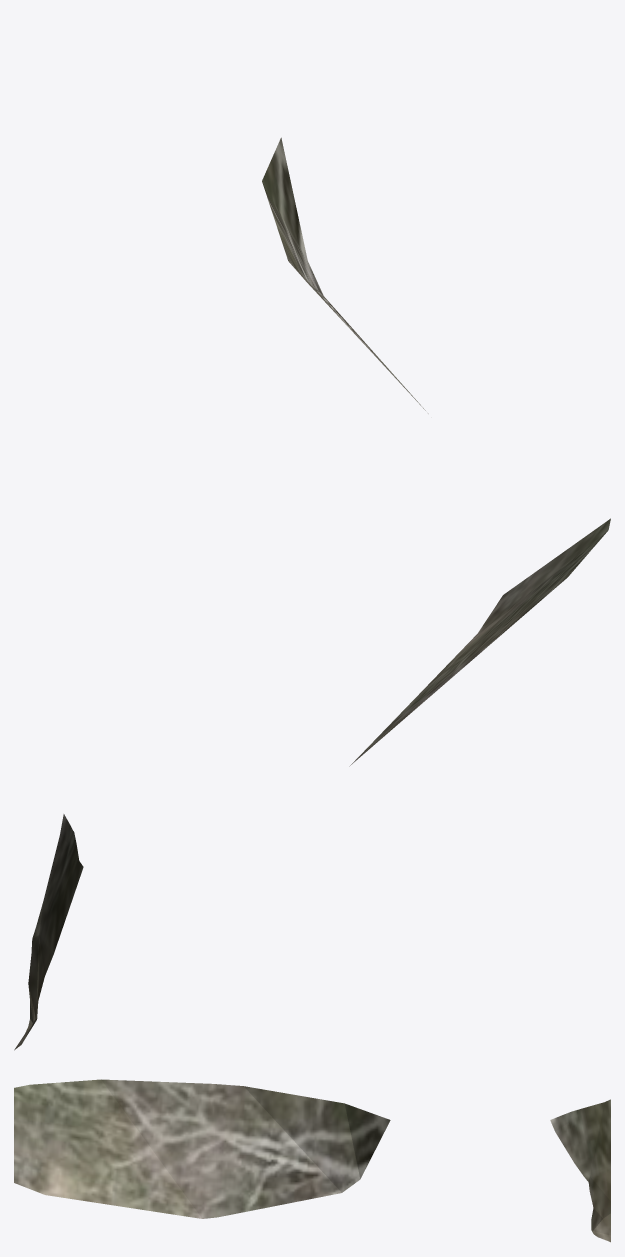
3 renders of one model, top to bottom at view 1: azimuth 30°, elevation 25°; view 2: azimuth 150°, elevation 25°; view 3: azimuth 270°, elevation 25°, orthographic. The views are drawn at different scales.
Bounding box in the file's own units: 0.4739 × 0.6676 × 2.95.
1 material, 1 textured.
